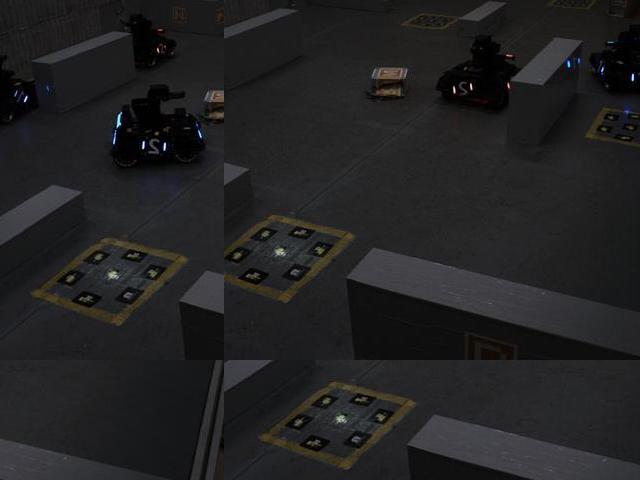armor: (139, 137, 173, 159), (451, 78, 479, 100), (10, 87, 34, 109), (150, 40, 172, 58), (624, 64, 639, 89)
